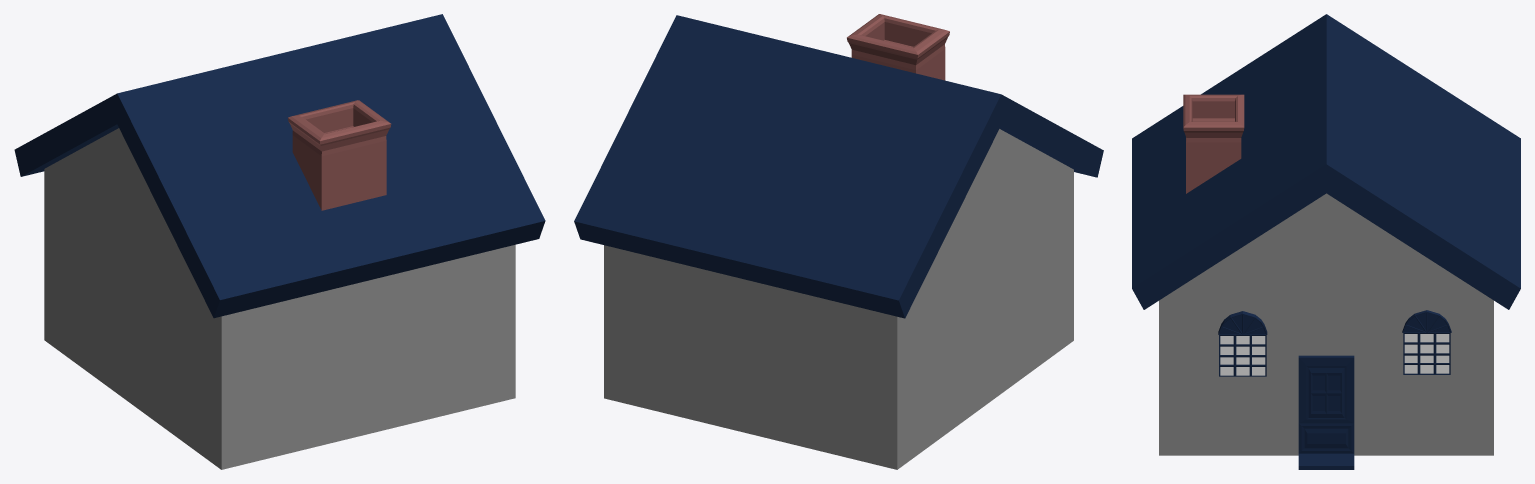
Rendered from House3.fbx.
3 renders of one model, left to right at view 1: azimuth 30°, elevation 25°; view 2: azimuth 150°, elevation 25°; view 3: azimuth 270°, elevation 25°, orthographic. The views are drawn at different scales.
Parts seen in each view (by area): view 1: House.002, Chimney.002; view 2: House.002, Chimney.002; view 3: House.002, door.002, Chimney.002, Window.002, Window2.002, WindowTop.004, WindowTop.005.
Part boxes in pixels (x1,y1,x2,y2): House.002: (14, 14, 545, 469); Chimney.002: (288, 100, 391, 210); House.002: (574, 15, 1103, 469); Chimney.002: (847, 14, 949, 80); House.002: (1132, 14, 1520, 455); door.002: (1298, 355, 1354, 469); Chimney.002: (1183, 94, 1244, 193); Window.002: (1403, 333, 1450, 374); Window2.002: (1219, 335, 1266, 376); WindowTop.004: (1218, 311, 1267, 334); WindowTop.005: (1402, 310, 1451, 332).
Size of the model in its own units: 703 by 622 by 734.
